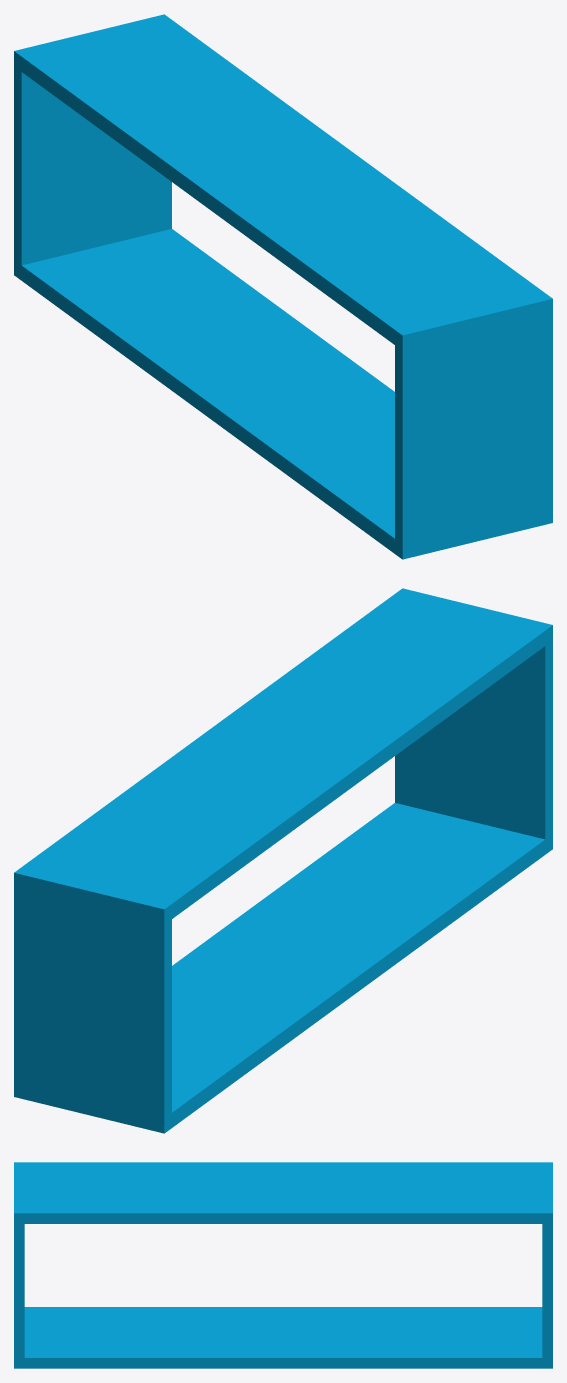
Rendered from Office_Cupboard_2D_Lod.fbx.
3 renders of one model, top to bottom at view 1: azimuth 30°, elevation 25°; view 2: azimuth 150°, elevation 25°; view 3: azimuth 270°, elevation 25°, orthographic. The views are drawn at different scales.
Visible parts, largest first — view 1: Office_Cupboard_2D_Lod; view 2: Office_Cupboard_2D_Lod; view 3: Office_Cupboard_2D_Lod.
Boxes of the visible parts, x1=… form: Office_Cupboard_2D_Lod: x1=14, y1=14, x2=552, y2=559; Office_Cupboard_2D_Lod: x1=14, y1=588, x2=552, y2=1133; Office_Cupboard_2D_Lod: x1=14, y1=1162, x2=552, y2=1368.
Size of the model in its own units: 29.52 by 42.04 by 132.
